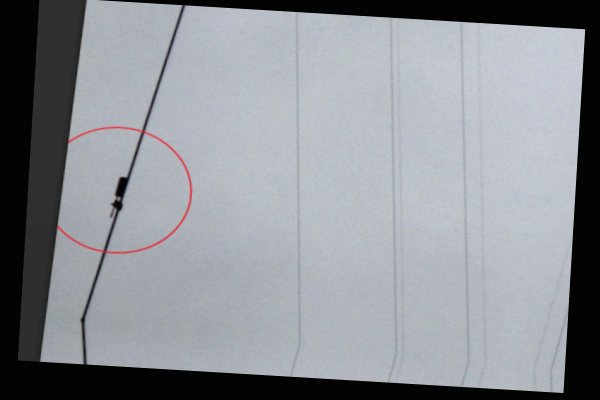damper_defect: (108, 175, 129, 220)
